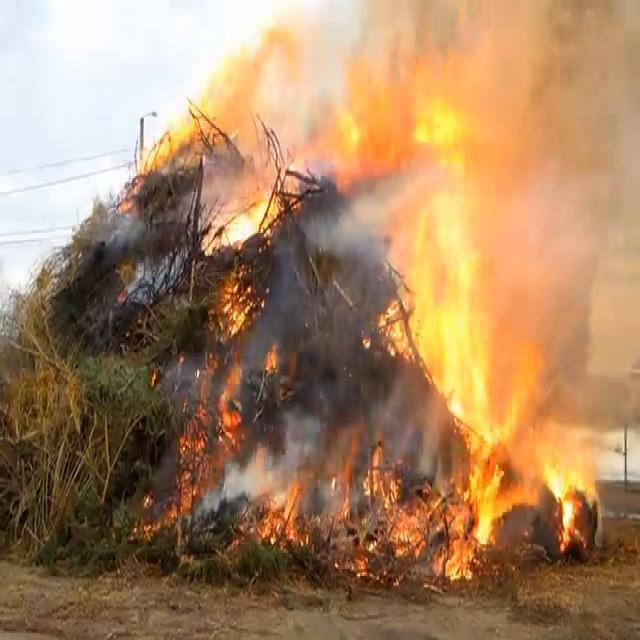fire: (408, 200, 548, 300), (402, 42, 478, 159), (442, 134, 538, 226), (337, 61, 412, 161), (470, 323, 551, 415), (417, 281, 481, 354), (218, 51, 268, 141), (370, 464, 422, 544), (258, 38, 304, 116), (434, 332, 484, 402), (468, 467, 502, 532), (530, 448, 572, 490), (561, 438, 599, 484), (222, 368, 243, 428), (272, 496, 300, 536), (447, 534, 470, 578), (226, 213, 250, 240), (562, 504, 572, 531)
smoke: (338, 205, 366, 248), (362, 184, 387, 227), (246, 457, 269, 491), (220, 461, 242, 496), (313, 216, 336, 245), (271, 448, 293, 478)
